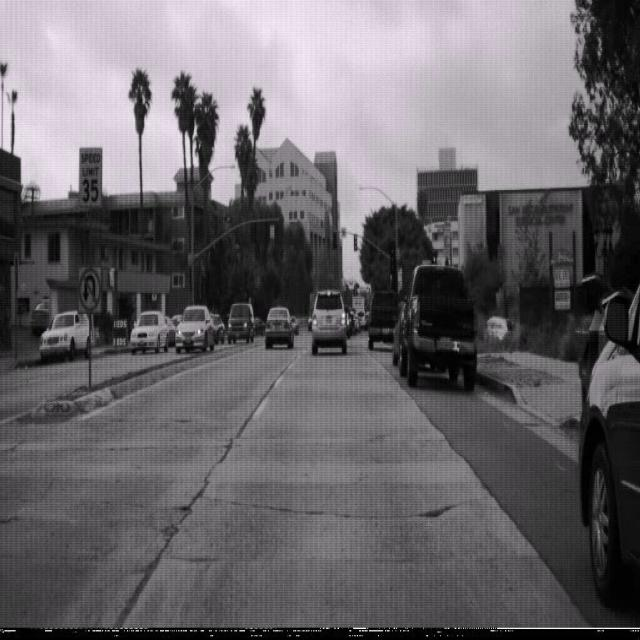speedLimit35: (78, 145, 103, 207)
